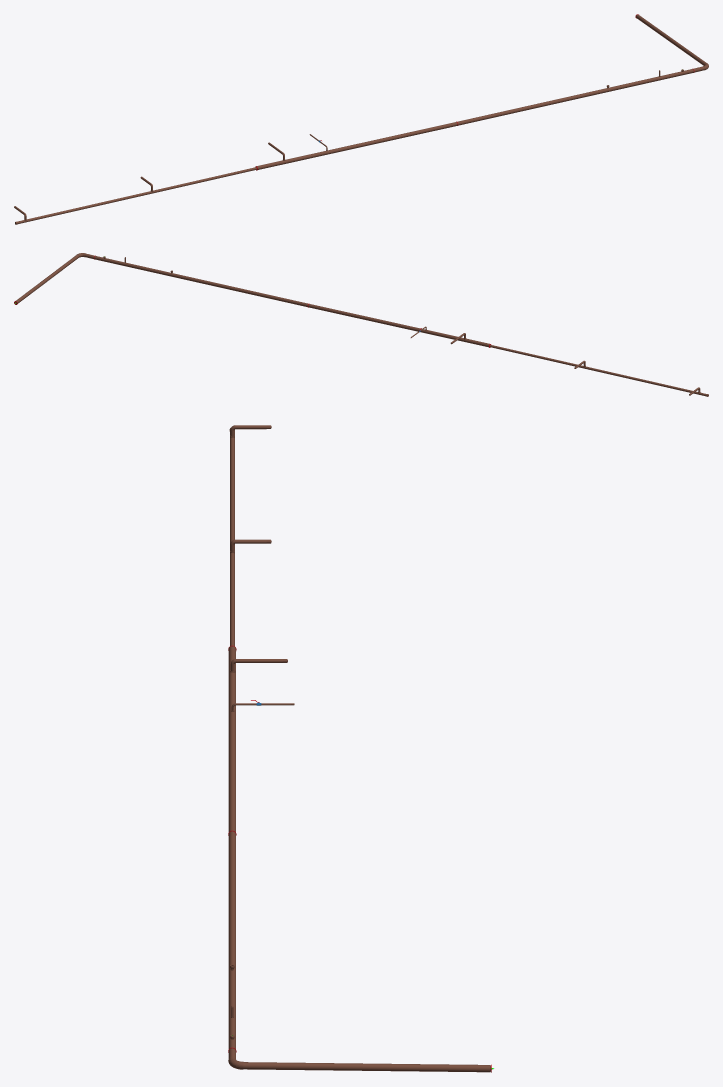
Rendered from Phase39a.fbx.
3 views of the same model, one above another, from view 1: azimuth 30°, elevation 25°; view 2: azimuth 150°, elevation 25°; view 3: azimuth 270°, elevation 25° (orthographic). The views are drawn at different scales.
Visible parts, largest first — view 1: Типы трубопроводов:CPS_Полиэтилен сшитый:1285372, Типы трубопроводов:CPS_Полиэтилен сшитый:1287198, Типы трубопроводов:CPS_Полиэтилен сшитый:1291470, Типы трубопроводов:CPS_Полиэтилен сшитый:1285313; view 2: Типы трубопроводов:CPS_Полиэтилен сшитый:1285372, Типы трубопроводов:CPS_Полиэтилен сшитый:1287198, Типы трубопроводов:CPS_Полиэтилен сшитый:1291470, Типы трубопроводов:CPS_Полиэтилен сшитый:1285313; view 3: Типы трубопроводов:CPS_Полиэтилен сшитый:1285313, Типы трубопроводов:CPS_Полиэтилен сшитый:1285372, Типы трубопроводов:CPS_Полиэтилен сшитый:1287198, Типы трубопроводов:CPS_Полиэтилен сшитый:1291470.
Part boxes in pixels (box(x1,y1,x2,y2)): Типы трубопроводов:CPS_Полиэтилен сшитый:1285372: box(457, 69, 693, 125); Типы трубопроводов:CPS_Полиэтилен сшитый:1287198: box(257, 122, 457, 169); Типы трубопроводов:CPS_Полиэтилен сшитый:1291470: box(17, 167, 256, 223); Типы трубопроводов:CPS_Полиэтилен сшитый:1285313: box(636, 14, 706, 65); Типы трубопроводов:CPS_Полиэтилен сшитый:1285372: box(94, 256, 307, 306); Типы трубопроводов:CPS_Полиэтилен сшитый:1287198: box(308, 304, 489, 347); Типы трубопроводов:CPS_Полиэтилен сшитый:1291470: box(490, 345, 706, 396); Типы трубопроводов:CPS_Полиэтилен сшитый:1285313: box(15, 254, 79, 303); Типы трубопроводов:CPS_Полиэтилен сшитый:1285313: box(243, 1062, 490, 1072); Типы трубопроводов:CPS_Полиэтилен сшитый:1285372: box(228, 831, 235, 1048); Типы трубопроводов:CPS_Полиэтилен сшитый:1287198: box(228, 646, 235, 831); Типы трубопроводов:CPS_Полиэтилен сшитый:1291470: box(230, 430, 234, 646).
Bounding box in the file's own units: 17550 × 3217 × 575.
